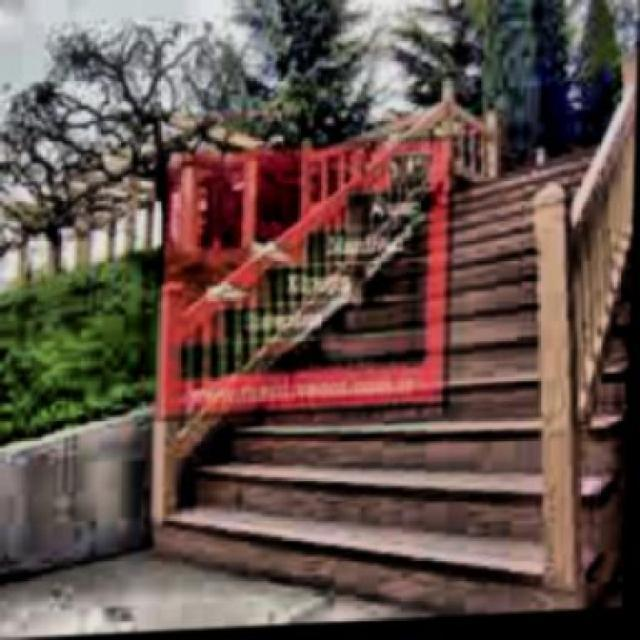stair: (180, 122, 634, 596)
